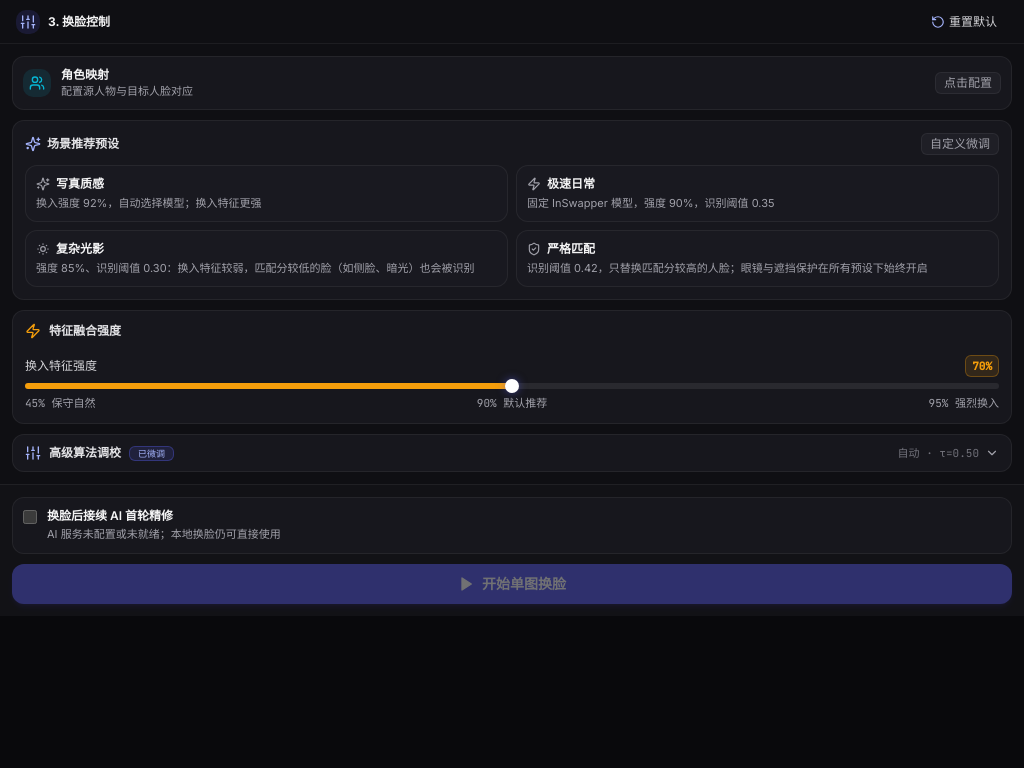
it: ParameterPanel presets › resets to the recommended defaults
The image size is (1024, 768).
Click the button titled "恢复推荐默认算法参数": (964, 22) [920,8,1008,36]
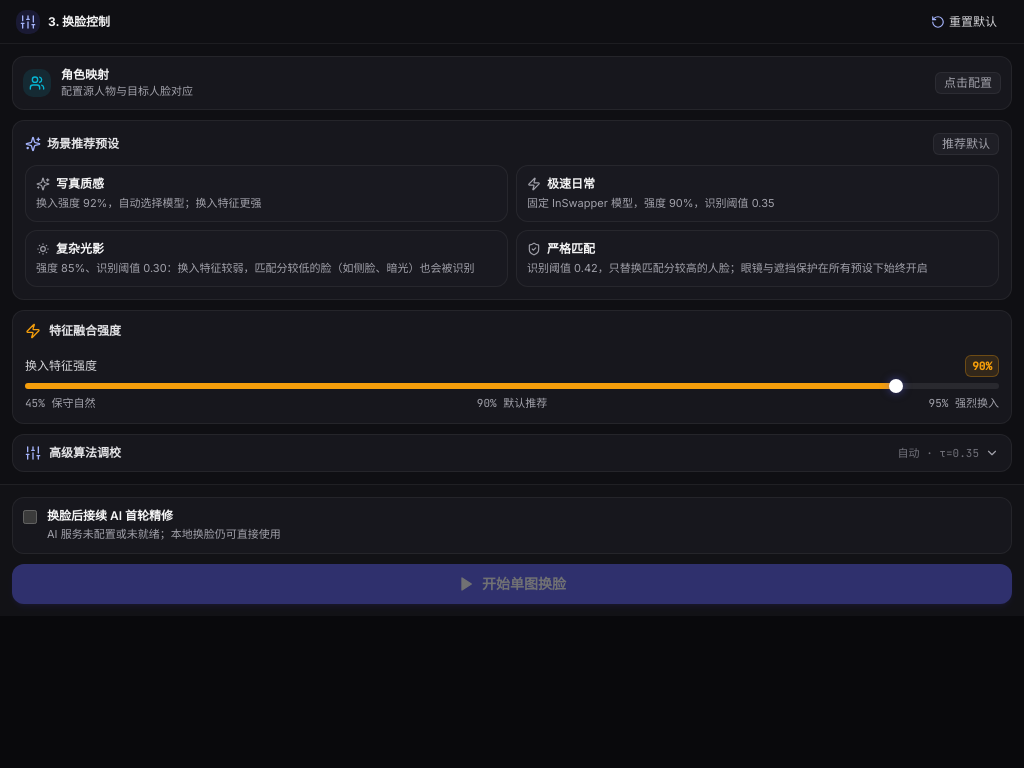
Result: the text "推荐默认" is shown at [933,133,999,155]
